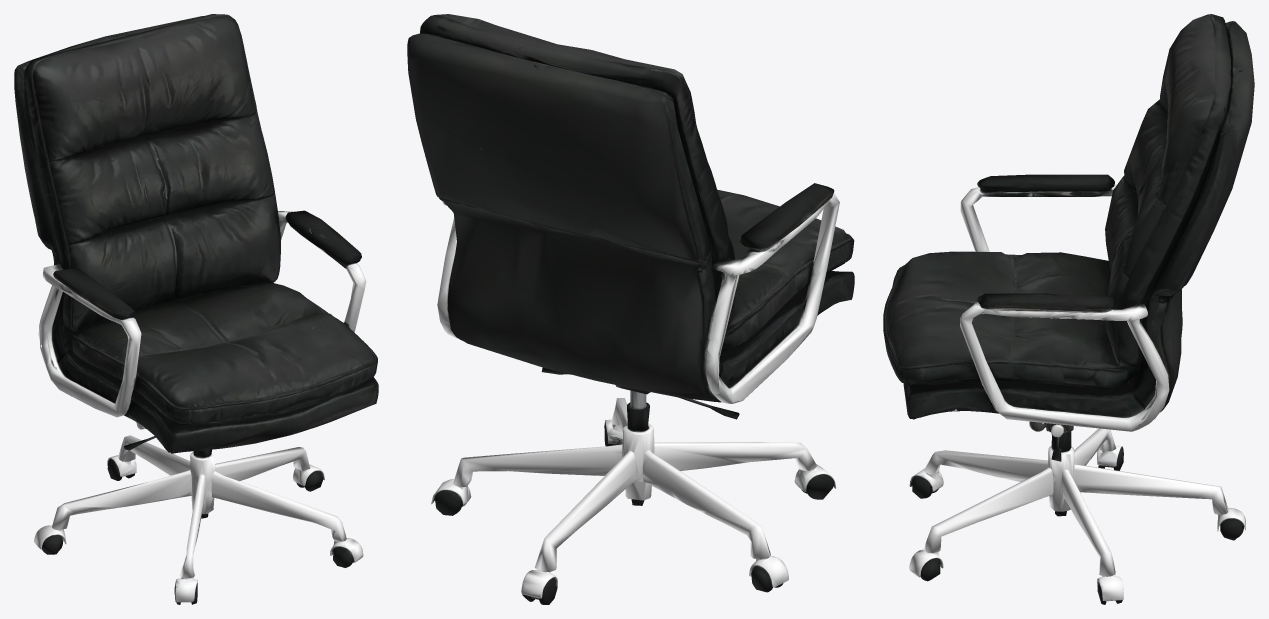
Rendered from chair.glb.
The picture shows the model from 3 angles, left to right: view 1: azimuth 30°, elevation 25°; view 2: azimuth 150°, elevation 25°; view 3: azimuth 270°, elevation 25°; orthographic projection. The views are drawn at different scales.
Parts seen in each view (by area): view 1: model; view 2: model; view 3: model.
Part boxes in pixels (x1=…): model: x1=14, y1=14, x2=378, y2=604; model: x1=407, y1=14, x2=854, y2=604; model: x1=883, y1=14, x2=1254, y2=604.
Bounding box in the file's own units: 1.26 × 1.9 × 1.35.
Materials: 1 (1 with a texture image).
